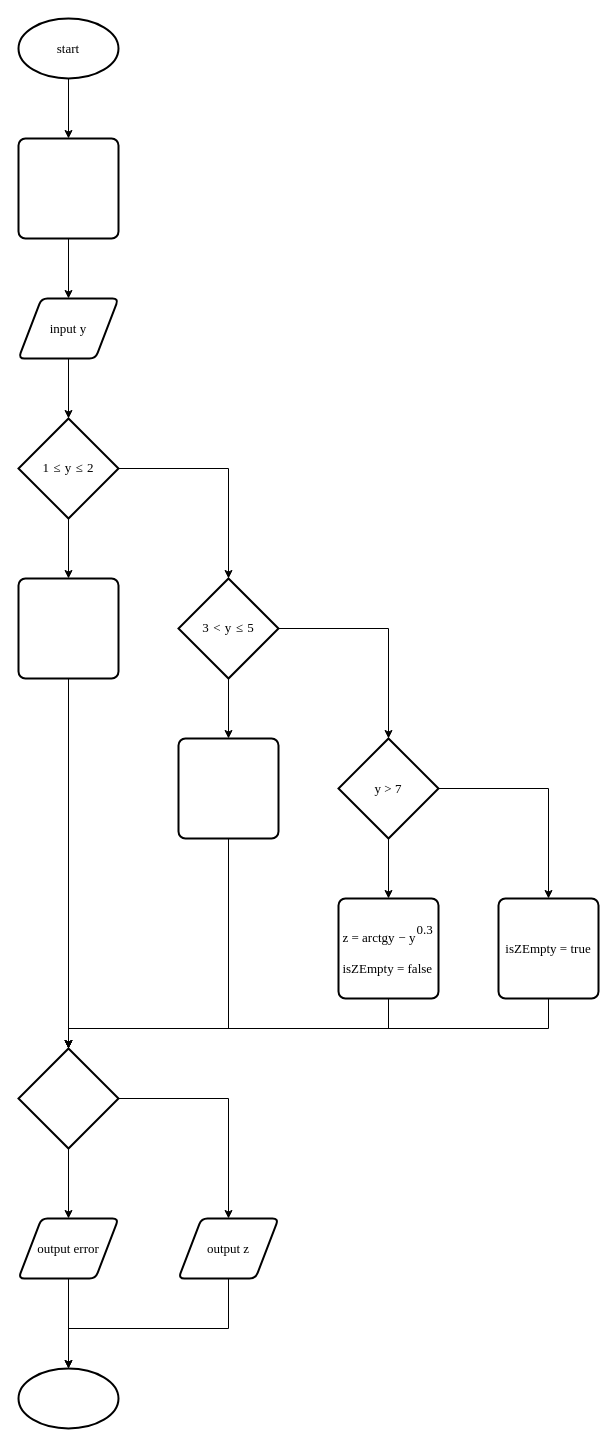
This 616x1446 diagram has some shape labels left out. Each missing label, with the box of its shape:
end: (17, 1367, 119, 1429)
isZEmpty: (17, 1047, 119, 1149)
z = 0 isZEmpty = true: (17, 137, 119, 239)
z = y + 2 isZEmpty = false: (177, 737, 279, 839)
z = y 0.3 + e y isZEmpty = false: (17, 577, 119, 679)
